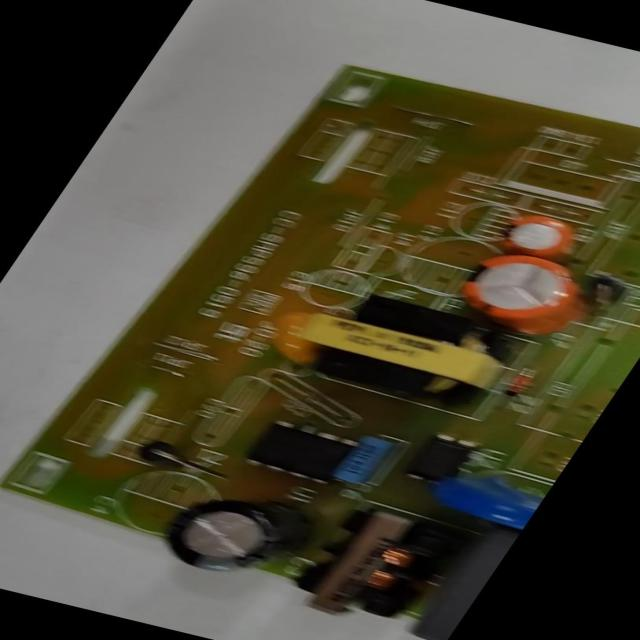Cap1: (443, 248, 609, 342)
Cap2: (493, 209, 588, 264)
Cap3: (150, 486, 323, 584)
MOSFET: (238, 418, 361, 487)
Mov: (426, 471, 547, 531)
Transformer: (289, 286, 532, 410), (278, 501, 464, 628)
